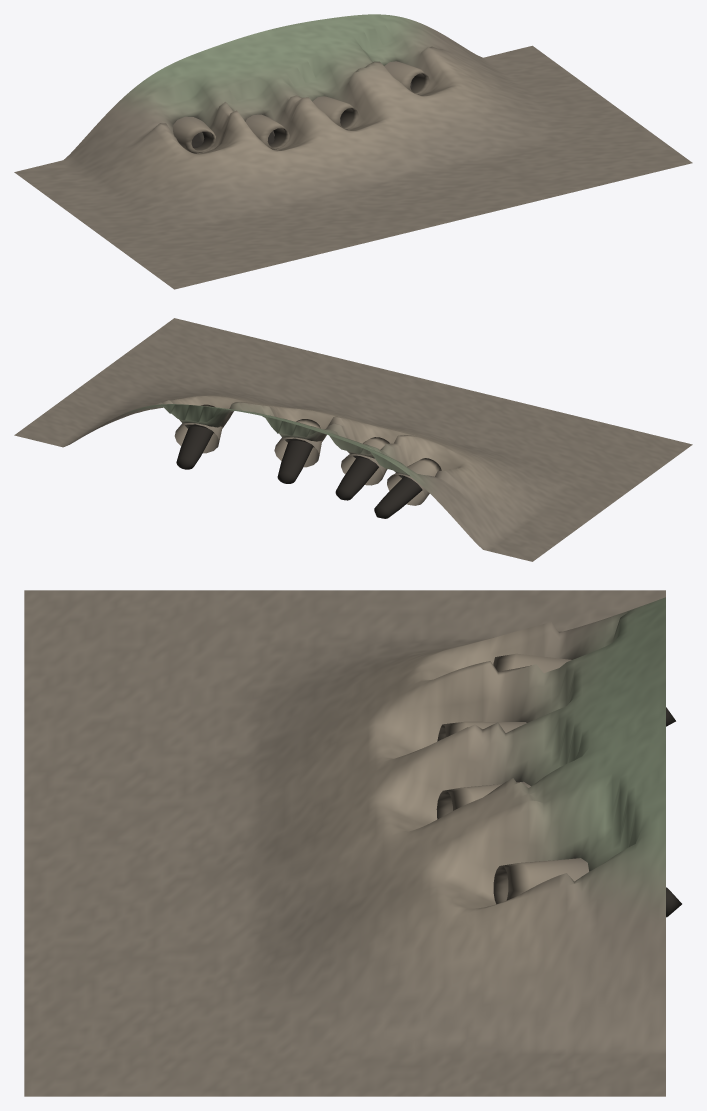
The model's file is warren_bank.glb.
3 views of the same model, one above another, from view 1: azimuth 30°, elevation 25°; view 2: azimuth 150°, elevation 25°; view 3: azimuth 270°, elevation 25° (orthographic). The views are drawn at different scales.
Parts seen in each view (by area): view 1: warren_bank; view 2: warren_bank; view 3: warren_bank.
Part boxes in pixels (x1,y1,x2,y2): warren_bank: [14, 14, 692, 289]; warren_bank: [14, 318, 692, 561]; warren_bank: [24, 590, 681, 1096].
Bounding box in the file's own units: 4.2 × 0.6203 × 2.31.
